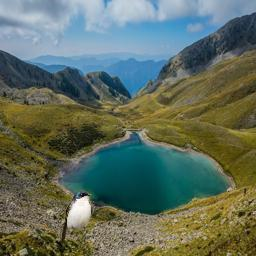Swallow: (61, 188, 94, 245)
